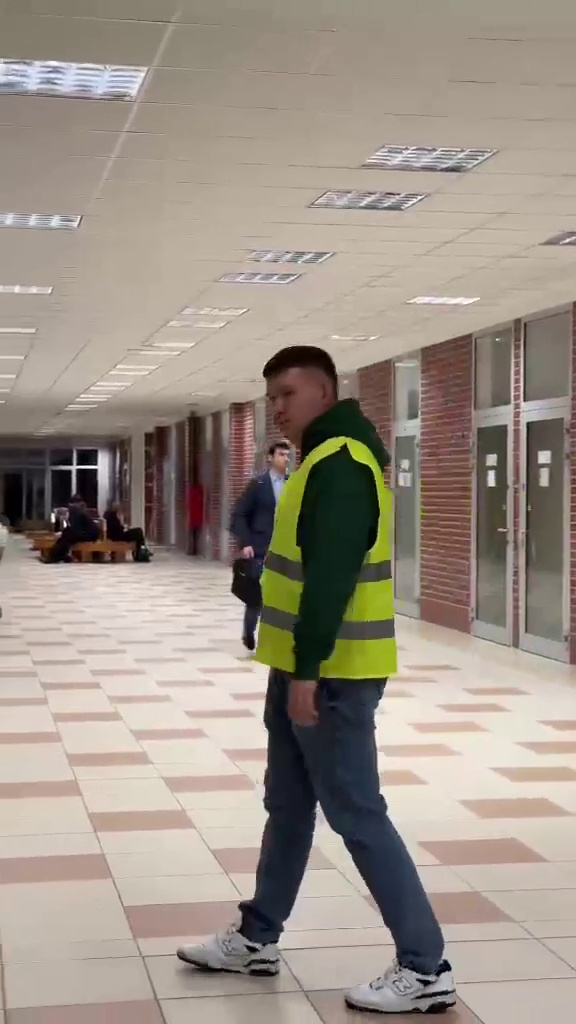vest: (230, 328, 462, 994)
